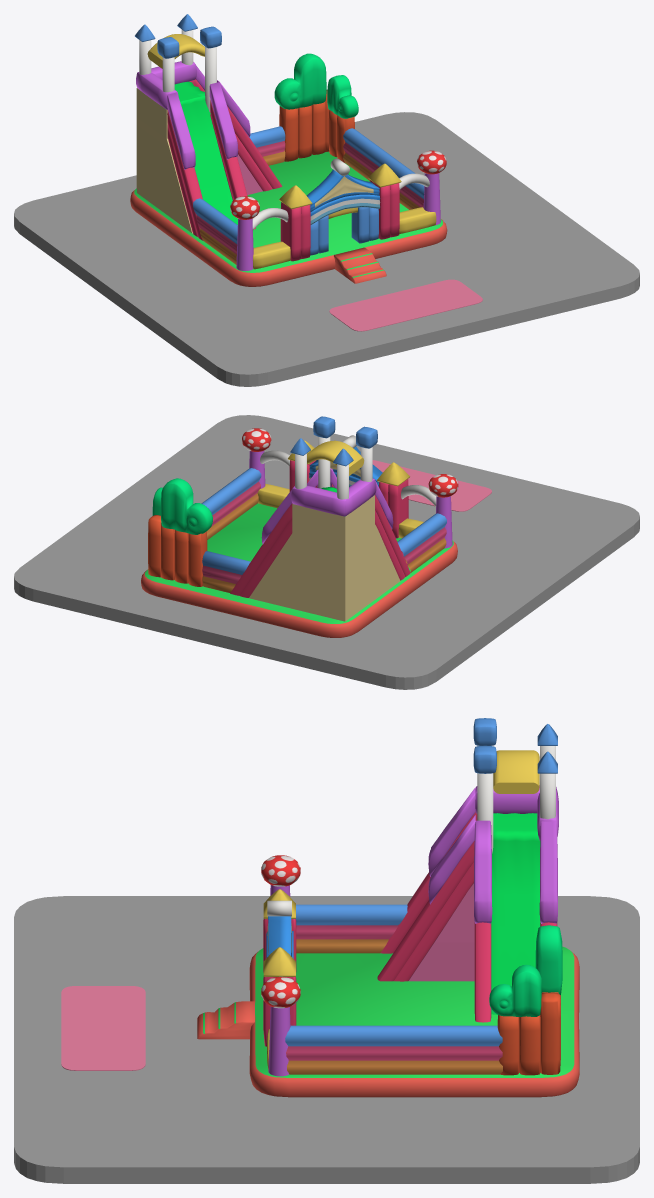
3 renders of one model, top to bottom at view 1: azimuth 30°, elevation 25°; view 2: azimuth 150°, elevation 25°; view 3: azimuth 270°, elevation 25°, orthographic. The views are drawn at different scales.
Parts seen in each view (by area): view 1: ground.002, BASE, ground.006, TOP; view 2: ground.002, BASE, ground.006, TOP; view 3: ground.002, BASE, ground.006, TOP.
Part boxes in pixels (<box>): ground.002: <box>14,112,639,386</box>; BASE: <box>130,14,447,286</box>; ground.006: <box>329,279,482,331</box>; TOP: <box>147,34,204,68</box>; ground.002: <box>14,415,639,689</box>; BASE: <box>141,416,458,637</box>; ground.006: <box>372,460,491,511</box>; TOP: <box>307,440,364,475</box>; ground.002: <box>14,896,639,1183</box>; BASE: <box>197,718,579,1097</box>; ground.006: <box>61,986,145,1070</box>; TOP: <box>493,750,539,793</box>.
Size of the model in its own units: 36.18 by 16.3 by 35.3.
